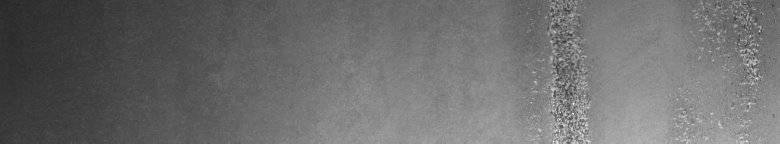hc: (531, 4, 594, 136)
